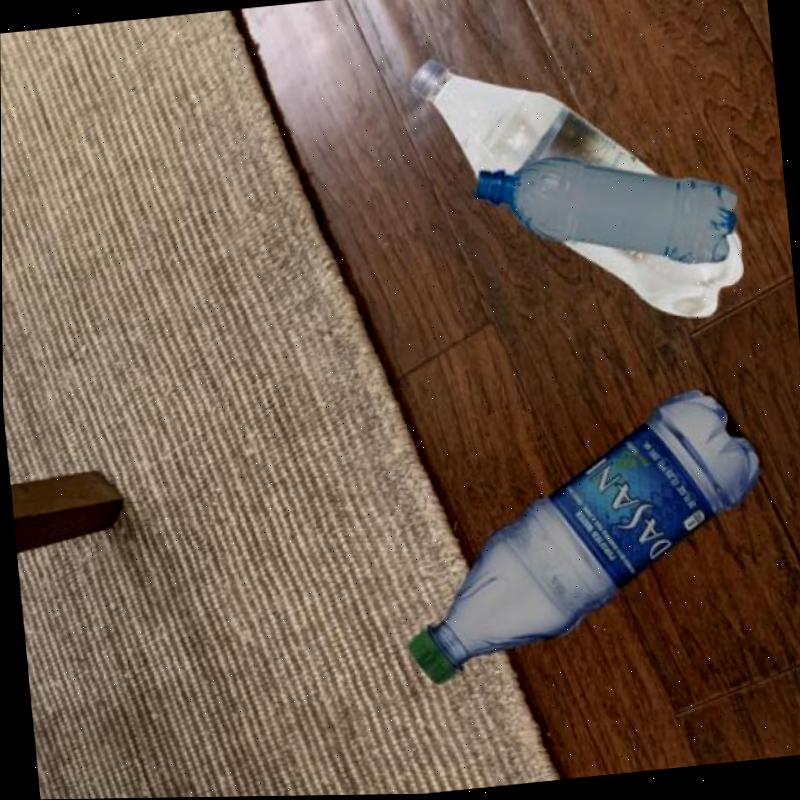botella: (384, 385, 780, 691), (408, 32, 748, 347), (474, 139, 741, 288)
